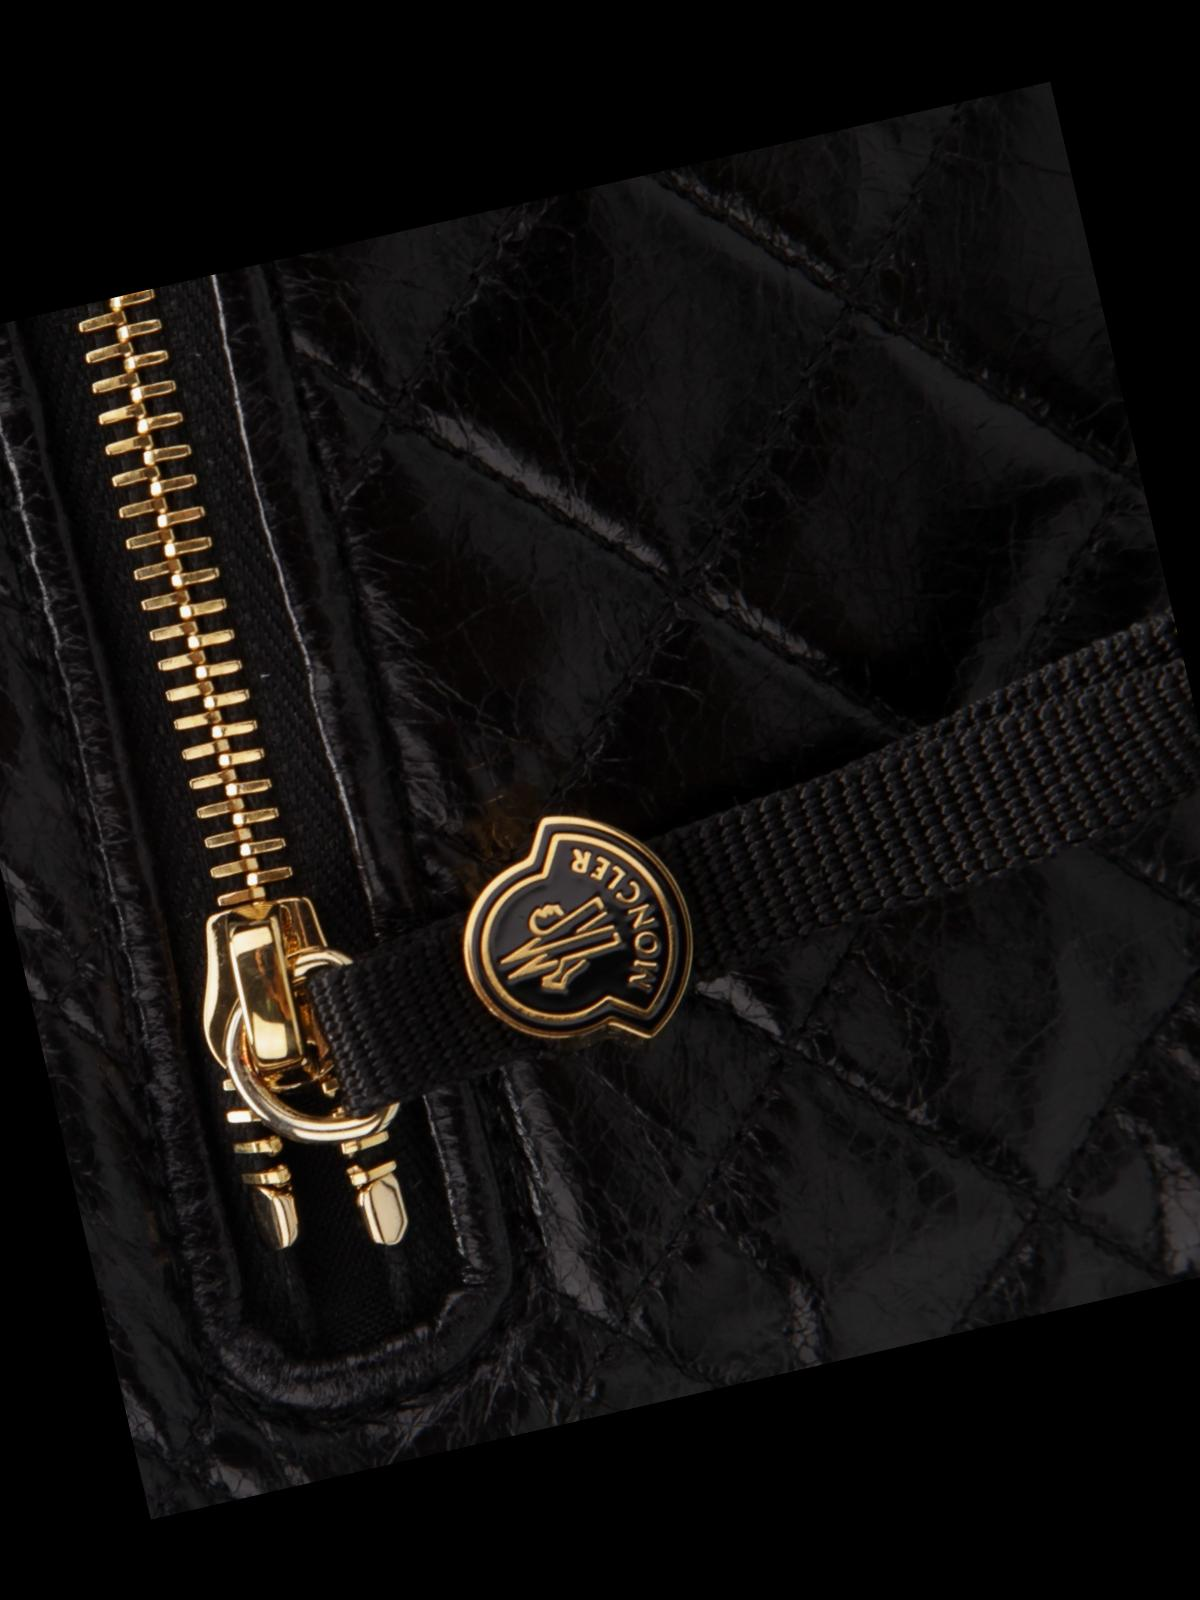MONCLER: (435, 787, 717, 1076)
